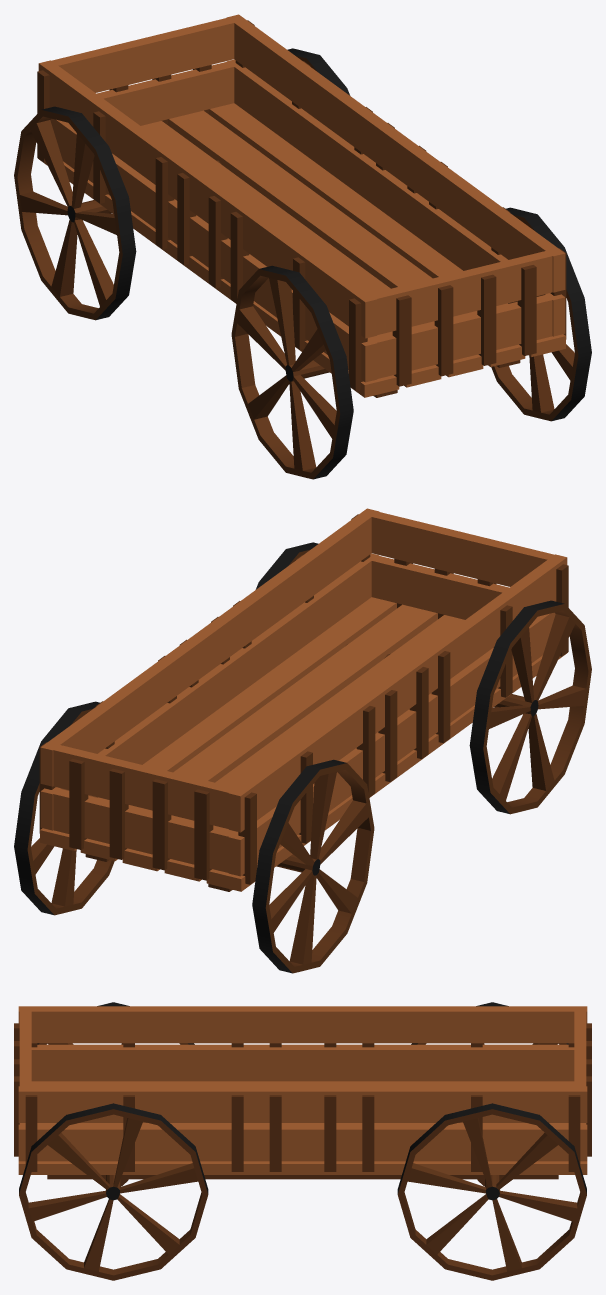
File: Powozka2.fbx
3 views of the same model, one above another, from view 1: azimuth 30°, elevation 25°; view 2: azimuth 150°, elevation 25°; view 3: azimuth 270°, elevation 25° (orthographic). The views are drawn at different scales.
Visible parts, largest first — view 1: Cylinder031, Box039, Box049, Box037, Box038, Box048, Box034, Box035, Box036, Box033, Box031, Box040 (+7 smaller); view 2: Cylinder031, Box039, Box049, Box037, Box038, Box048, Box034, Box035, Box036, Box033, Box031, Box040 (+7 smaller); view 3: Cylinder031, Box037, Box036, Box039, Box038, Box035, Box031, Box044, Box045, Box049, Box055, Box046 (+3 smaller).
Boxes of the visible parts, x1=… form: Cylinder031: x1=14, y1=48, x2=591, y2=479; Box039: x1=226, y1=14, x2=565, y2=292; Box049: x1=48, y1=18, x2=552, y2=334; Box037: x1=38, y1=60, x2=377, y2=338; Box038: x1=227, y1=59, x2=565, y2=336; Box048: x1=97, y1=62, x2=552, y2=378; Box034: x1=168, y1=110, x2=525, y2=366; Box035: x1=209, y1=103, x2=565, y2=356; Box036: x1=50, y1=118, x2=377, y2=382; Box033: x1=141, y1=121, x2=483, y2=377; Box031: x1=38, y1=158, x2=399, y2=397; Box040: x1=177, y1=173, x2=227, y2=288; Cylinder031: x1=14, y1=542, x2=591, y2=973; Box039: x1=40, y1=508, x2=379, y2=786; Box049: x1=53, y1=512, x2=557, y2=828; Box037: x1=228, y1=554, x2=567, y2=832; Box038: x1=40, y1=553, x2=378, y2=830; Box048: x1=53, y1=556, x2=508, y2=872; Box034: x1=80, y1=604, x2=437, y2=860; Box035: x1=40, y1=597, x2=396, y2=850; Box036: x1=228, y1=612, x2=555, y2=876; Box033: x1=122, y1=615, x2=464, y2=871; Box031: x1=206, y1=652, x2=567, y2=891; Box040: x1=378, y1=667, x2=428, y2=782; Cylinder031: x1=19, y1=1002, x2=586, y2=1280; Box037: x1=18, y1=1006, x2=587, y2=1043; Box036: x1=31, y1=1044, x2=574, y2=1081; Box039: x1=18, y1=1086, x2=587, y2=1122; Box038: x1=18, y1=1124, x2=587, y2=1161; Box035: x1=18, y1=1161, x2=587, y2=1174; Box031: x1=31, y1=1081, x2=574, y2=1086; Box044: x1=269, y1=1095, x2=336, y2=1171; Box045: x1=231, y1=1095, x2=374, y2=1171; Box049: x1=19, y1=1010, x2=586, y2=1086; Box055: x1=47, y1=1175, x2=558, y2=1179; Box046: x1=25, y1=1095, x2=580, y2=1171.
Size of the model in its own units: 0.698 by 0.5415 by 1.59.
